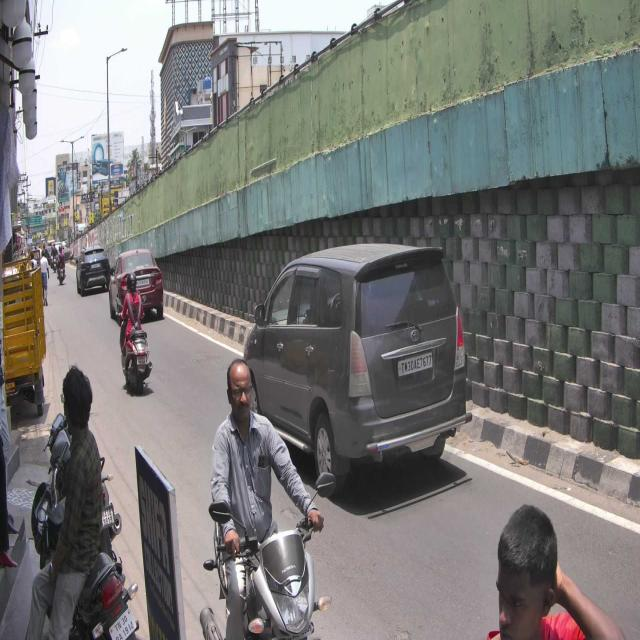single_rider: (200, 356, 326, 640)
